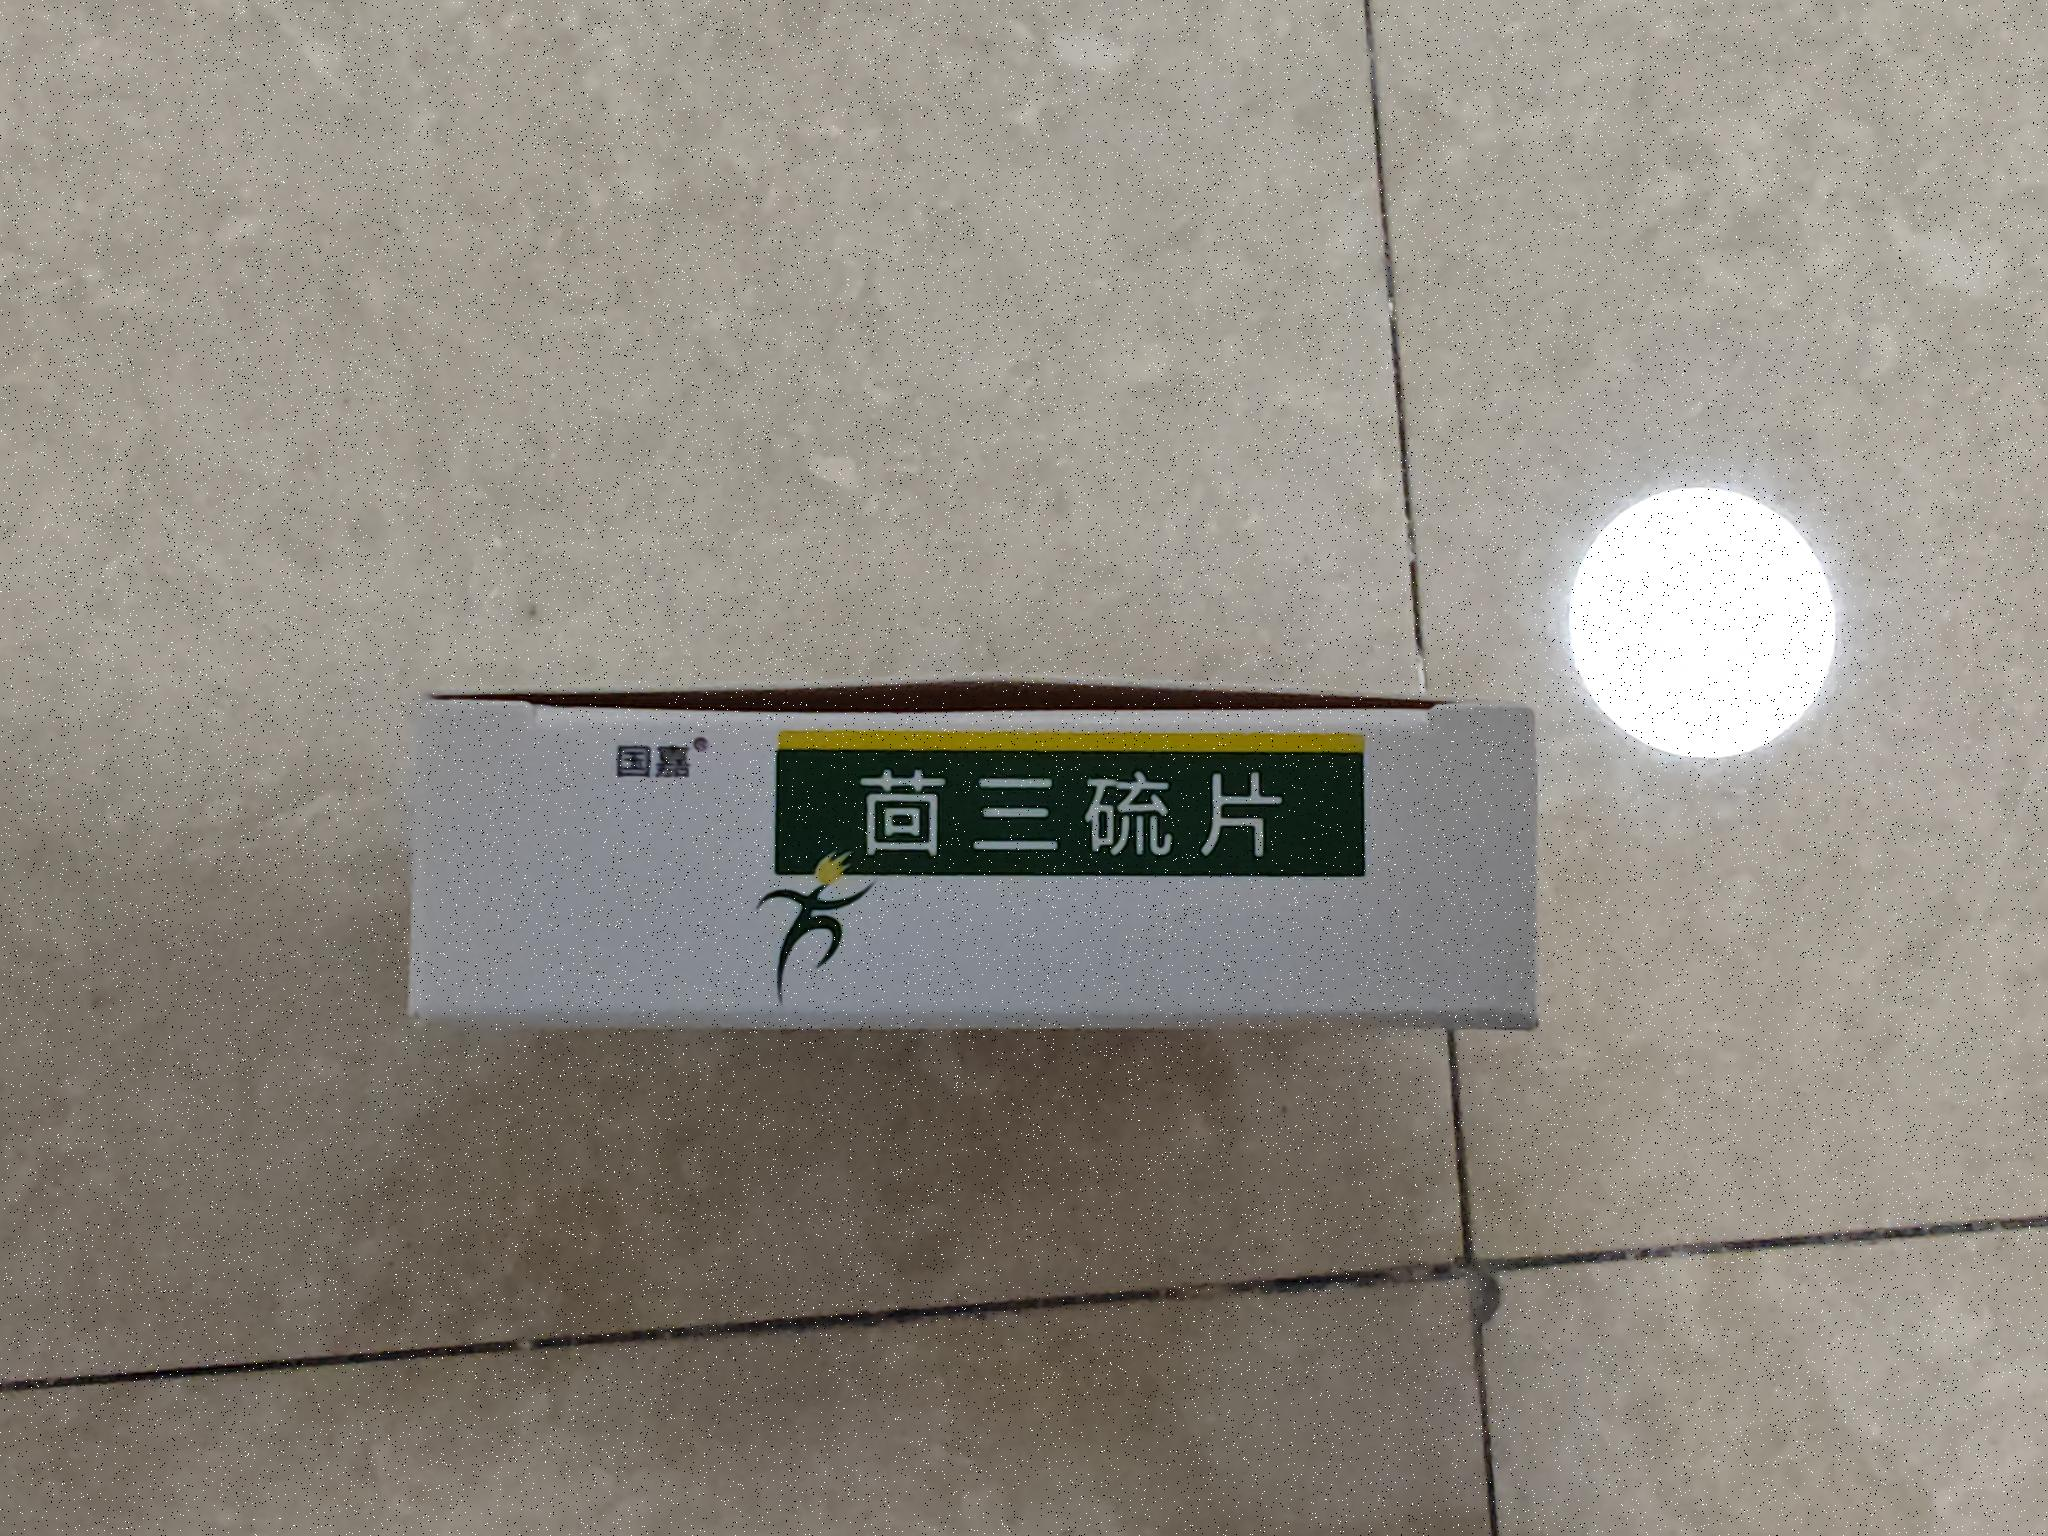Medicine4: (385, 660, 1567, 1062)
